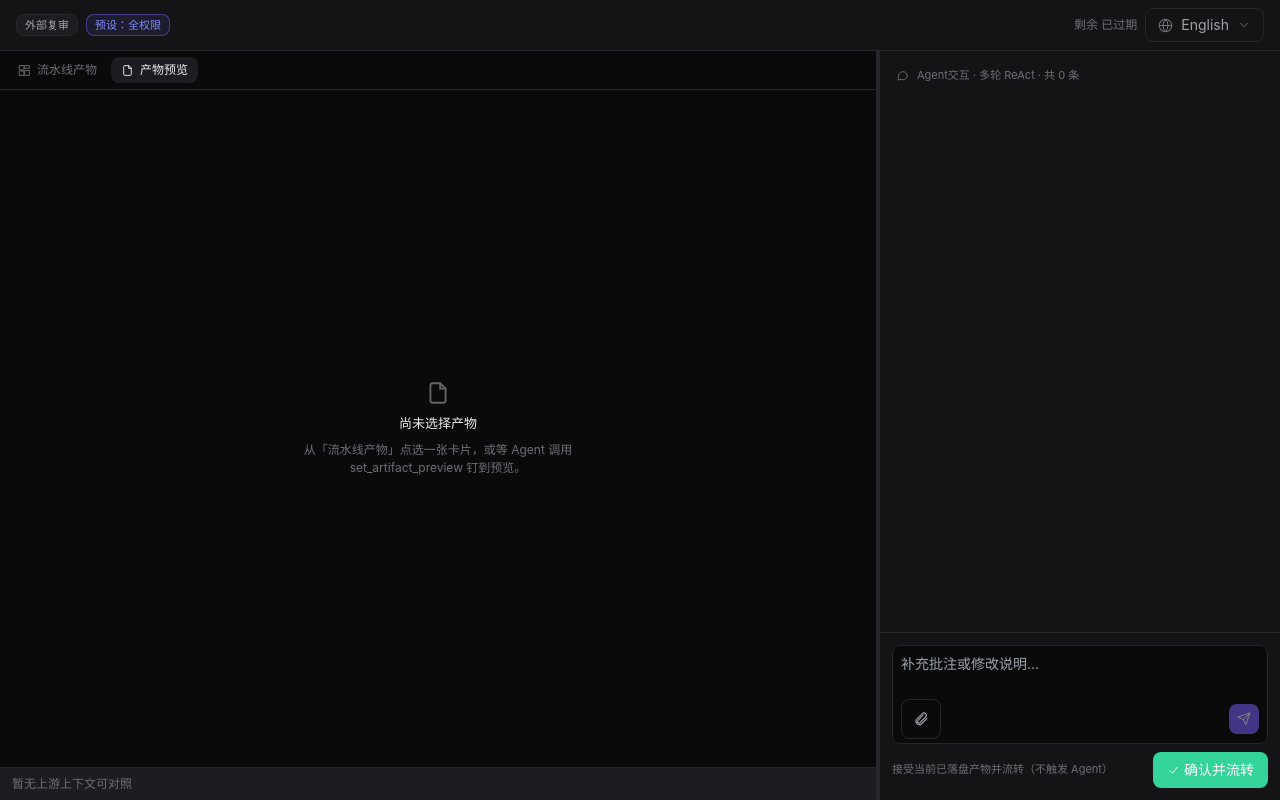
Test: PublicGateApprovalView workbench › busy confirm stays on workbench and keeps the link
Click the button with test id "clarify-confirm-flow" at (1210, 770), box top-left (1153, 752), bottom-right (1268, 788)
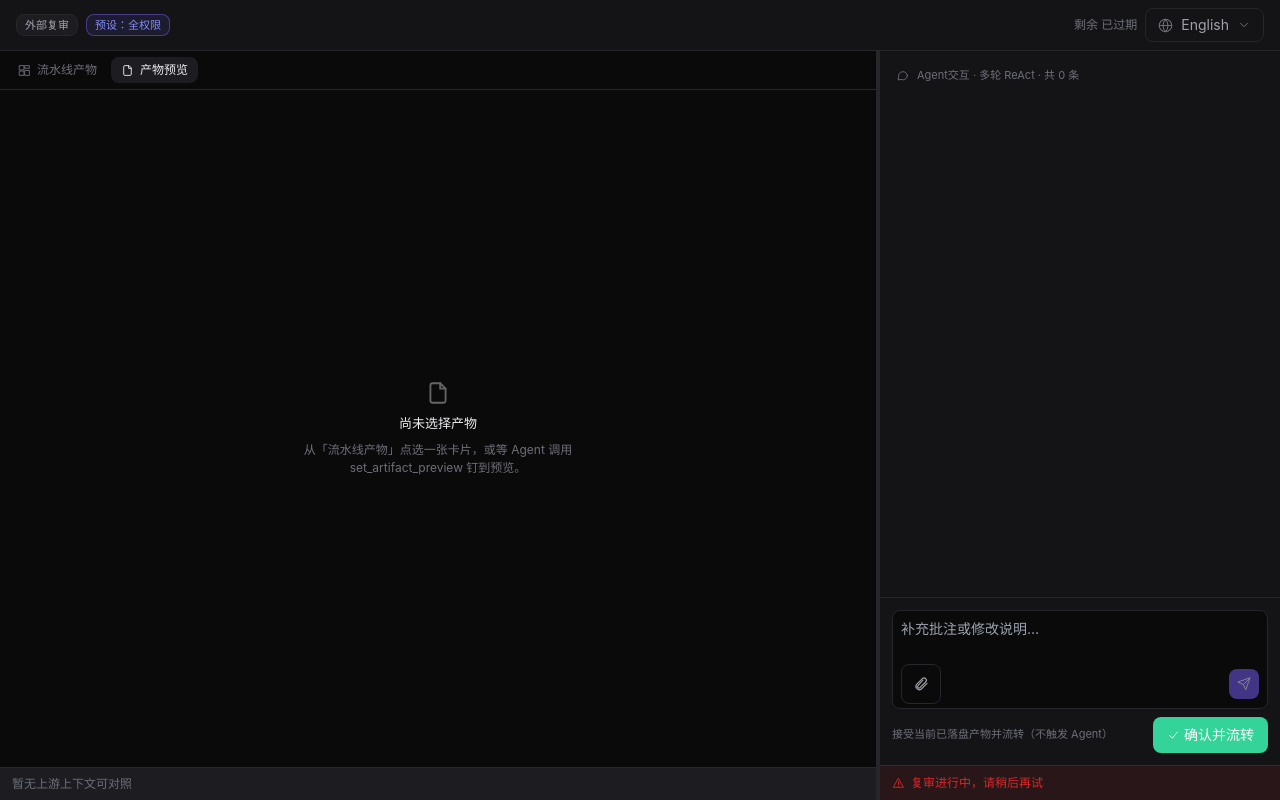
Expected: the button with test id "clarify-confirm-flow" is shown, top-left (1153, 717), bottom-right (1268, 753)
Now the message with test id "clarify-confirm-error" shows "复审进行中", box top-left (911, 775), bottom-right (1043, 790)
